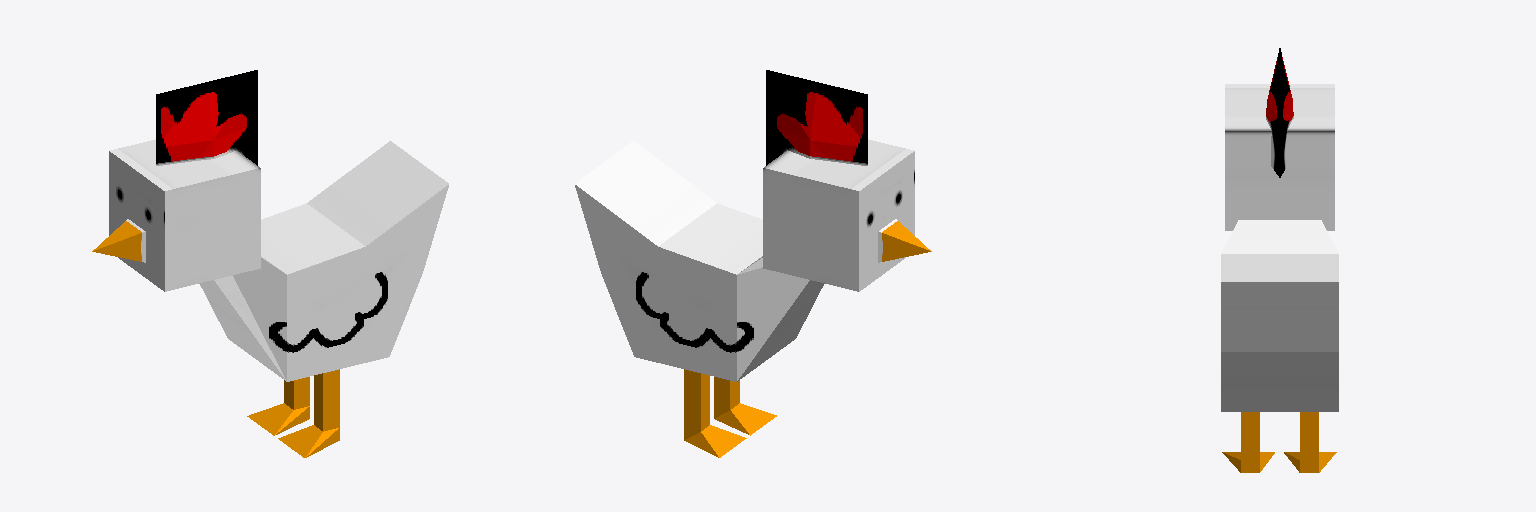
The picture shows the model from 3 angles: view 1: azimuth 30°, elevation 25°; view 2: azimuth 150°, elevation 25°; view 3: azimuth 270°, elevation 25°; orthographic projection.
Bounding box in the file's own units: 6.4 × 6.93 × 2.
Materials: 1 (1 with a texture image).